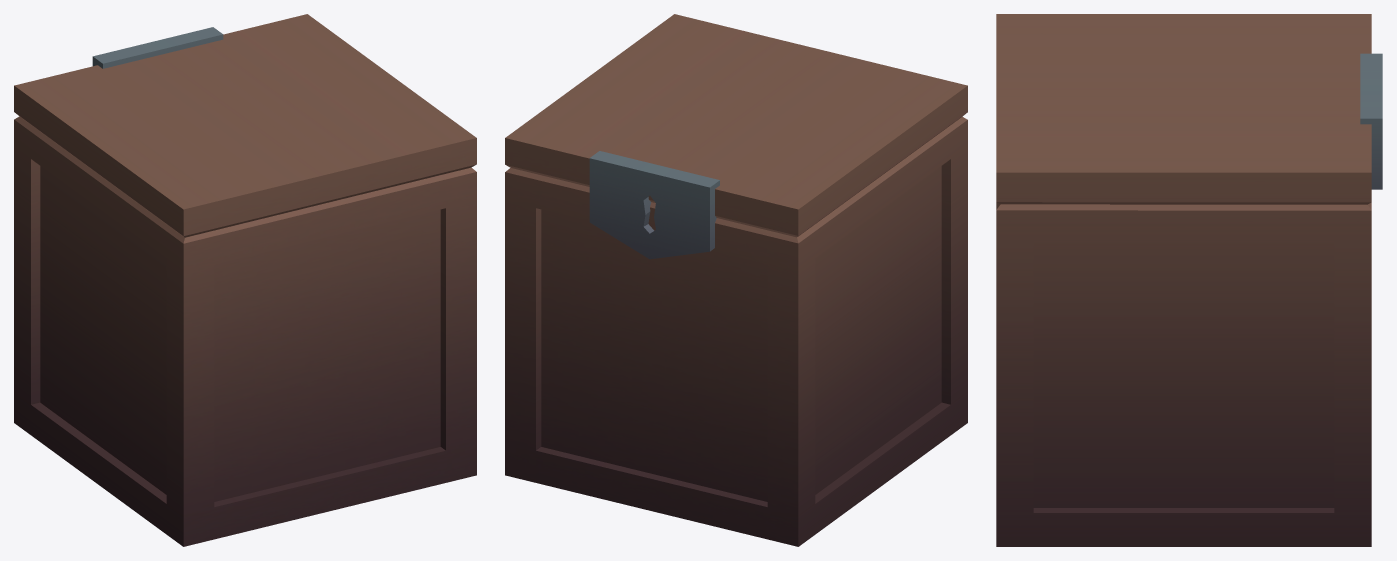
Rendered from caixa.fbx.
3 views of the same model, side by side, from view 1: azimuth 30°, elevation 25°; view 2: azimuth 150°, elevation 25°; view 3: azimuth 270°, elevation 25° (orthographic). The views are drawn at different scales.
Parts seen in each view (by area): view 1: Cube; view 2: Cube; view 3: Cube.
Part boxes in pixels (x1=…): Cube: x1=14, y1=14, x2=476, y2=546; Cube: x1=505, y1=14, x2=967, y2=546; Cube: x1=996, y1=14, x2=1382, y2=546.
Bounding box in the file's own units: 81.58 × 91.05 × 83.96.
